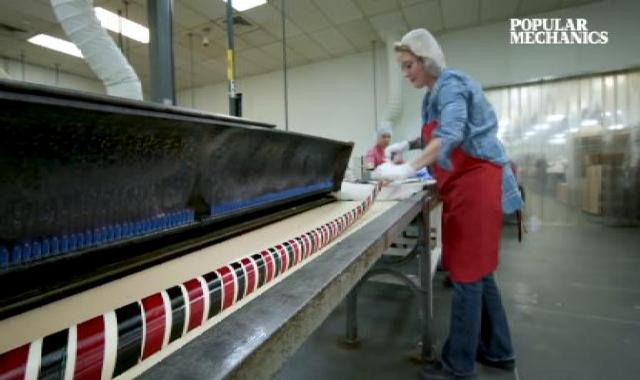hairnet: (381, 29, 455, 86)
